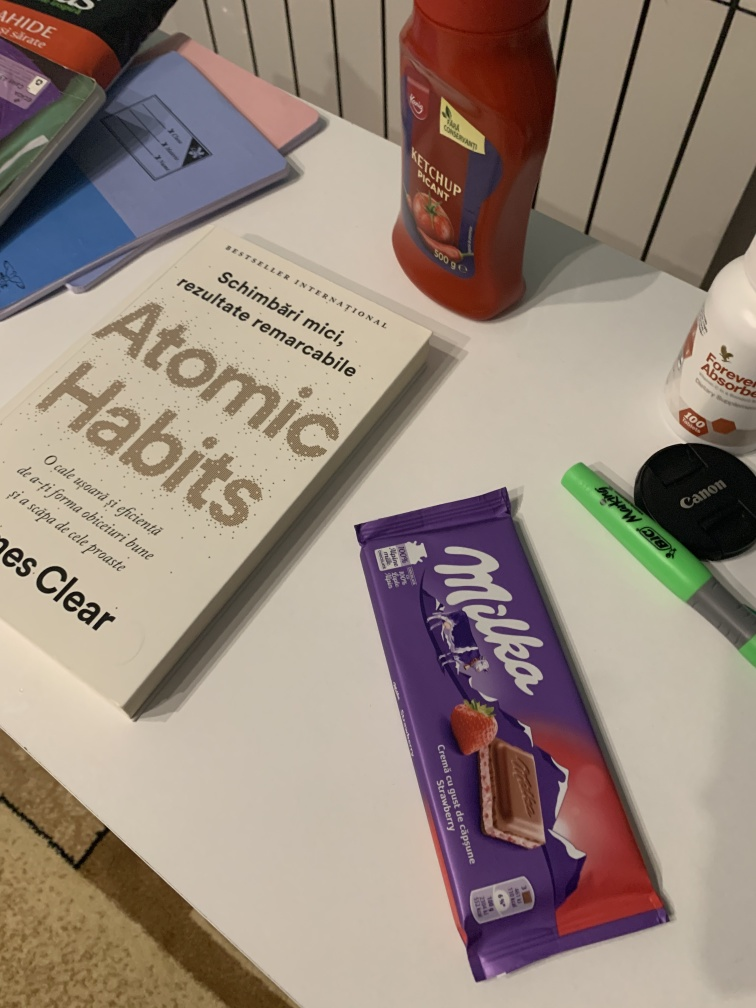ketchup: (378, 1, 570, 330)
milka: (349, 485, 680, 991)
peanuts: (3, 2, 190, 89)
